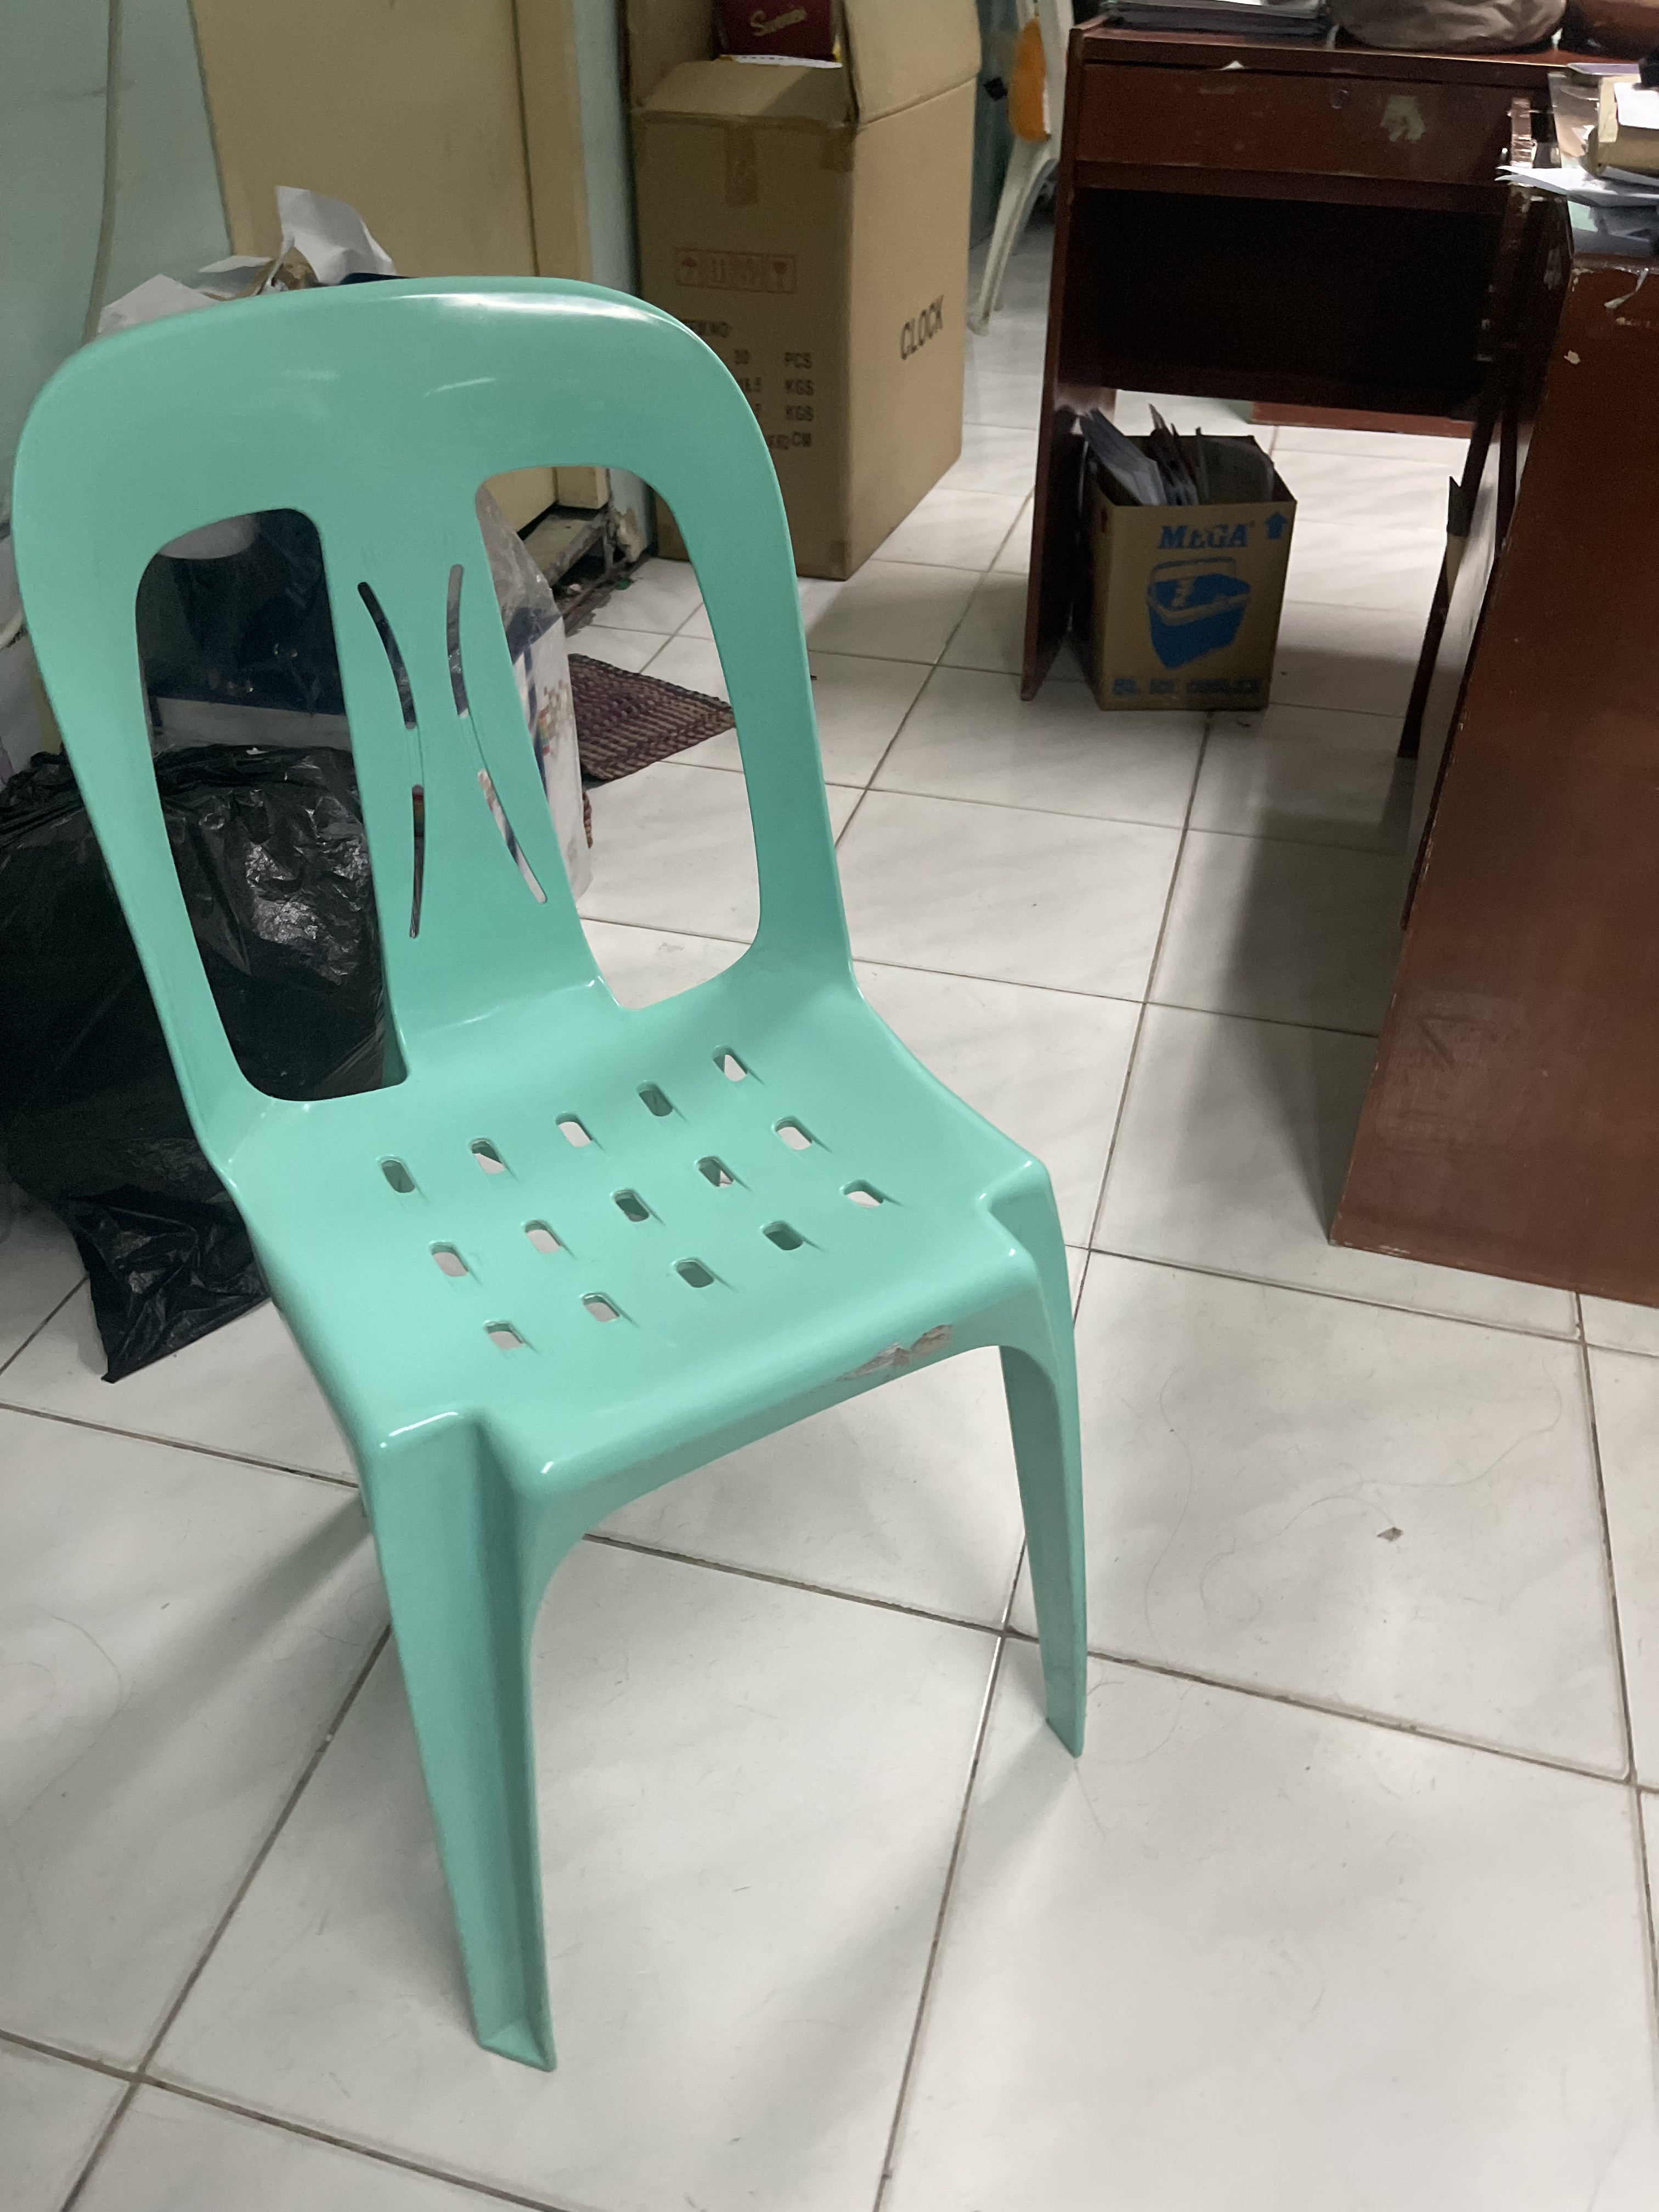chair2: (21, 268, 1101, 2080)
